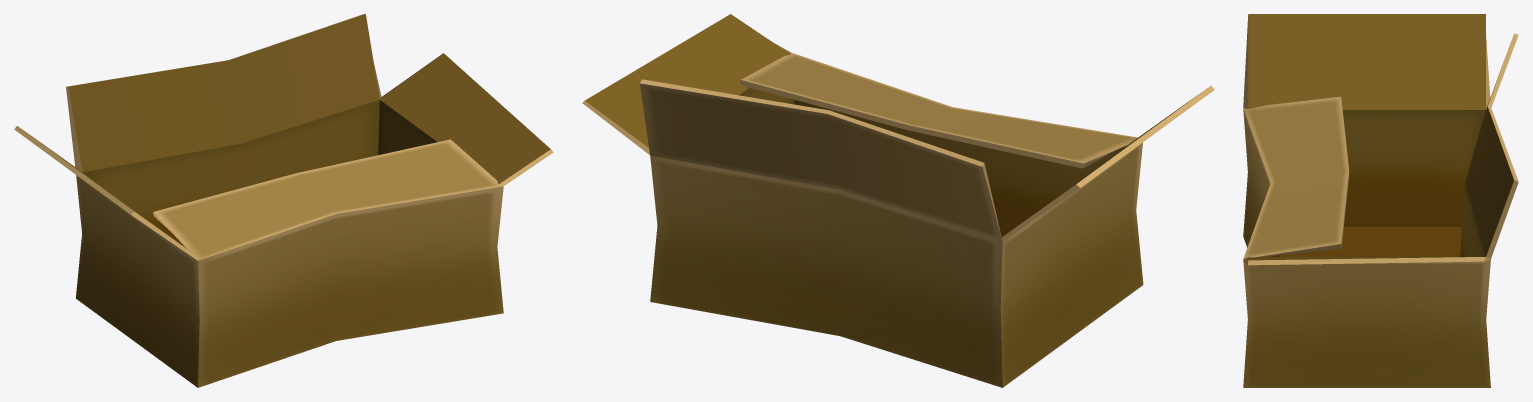
Rendered from prop_GarbageBox02.fbx.
The picture shows the model from 3 angles, left to right: view 1: azimuth 30°, elevation 25°; view 2: azimuth 150°, elevation 25°; view 3: azimuth 270°, elevation 25°; orthographic projection. The views are drawn at different scales.
Parts seen in each view (by area): view 1: prop_GarbageBox02; view 2: prop_GarbageBox02; view 3: prop_GarbageBox02.
Part boxes in pixels (left/top/right/bottom): prop_GarbageBox02: left=14, top=14, right=553, bottom=387; prop_GarbageBox02: left=582, top=14, right=1214, bottom=387; prop_GarbageBox02: left=1243, top=14, right=1518, bottom=387.
Size of the model in its own units: 234 by 105 by 127.
